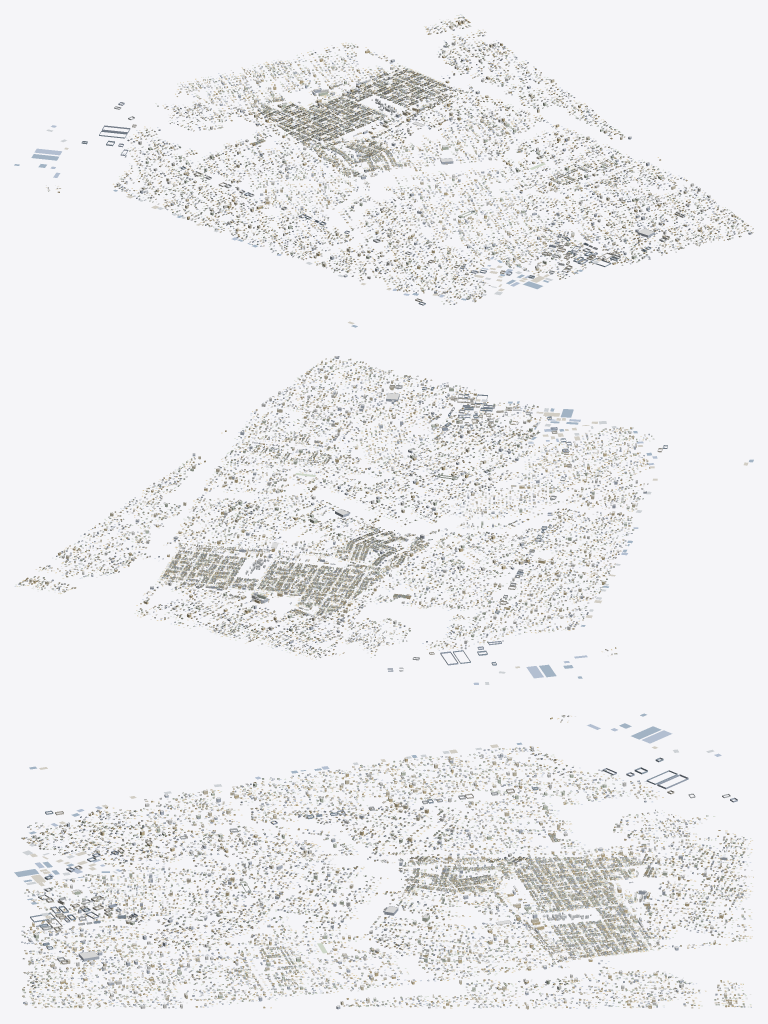
3 views of the same model, one above another, from view 1: azimuth 30°, elevation 25°; view 2: azimuth 150°, elevation 25°; view 3: azimuth 270°, elevation 25° (orthographic). The views are drawn at different scales.
Parts seen in each view (by area): view 1: house, roof_zinc, apartment, roof_flat, factory; view 2: house, roof_zinc, apartment, roof_flat, factory; view 3: house, roof_zinc, apartment, roof_flat, factory.
Boxes of the visible parts, box(x1,y1,x2,y2) form: house: box(47, 16, 753, 304); roof_zinc: box(14, 14, 751, 327); apartment: box(48, 20, 751, 299); roof_flat: box(48, 20, 750, 298); factory: box(81, 102, 669, 305); house: box(18, 356, 654, 657); roof_zinc: box(14, 358, 753, 684); apartment: box(29, 356, 646, 654); roof_flat: box(30, 356, 646, 644); factory: box(387, 384, 667, 671); house: box(21, 715, 746, 1008); roof_zinc: box(14, 713, 753, 1008); apartment: box(25, 715, 741, 1009); roof_flat: box(25, 715, 742, 1006); factory: box(30, 757, 737, 964).
Bounding box in the file's own units: 1.39e+08 × 734984 × 1.48e+08.
